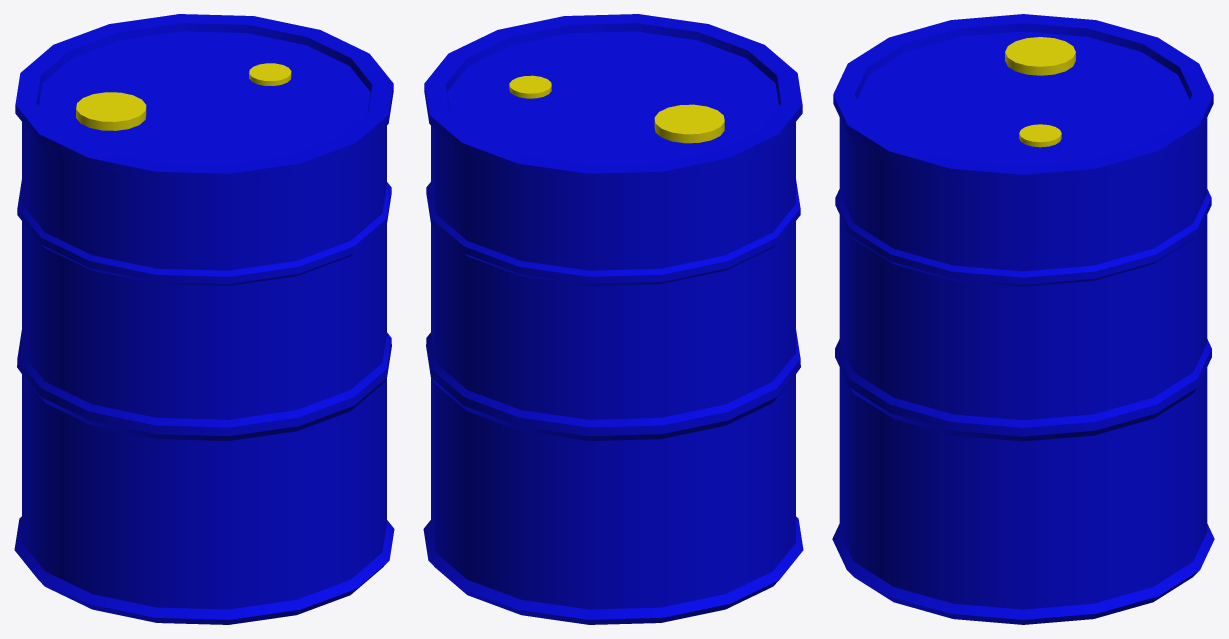
Rendered from MetalBarrel.fbx.
3 views of the same model, side by side, from view 1: azimuth 30°, elevation 25°; view 2: azimuth 150°, elevation 25°; view 3: azimuth 270°, elevation 25° (orthographic).
Parts seen in each view (by area): view 1: MetalBarrel; view 2: MetalBarrel; view 3: MetalBarrel.
Boxes of the visible parts, <box> form: MetalBarrel: <box>14,14,394,624</box>; MetalBarrel: <box>423,14,803,624</box>; MetalBarrel: <box>832,14,1214,624</box>.
Size of the model in its own units: 120 by 157 by 120.
